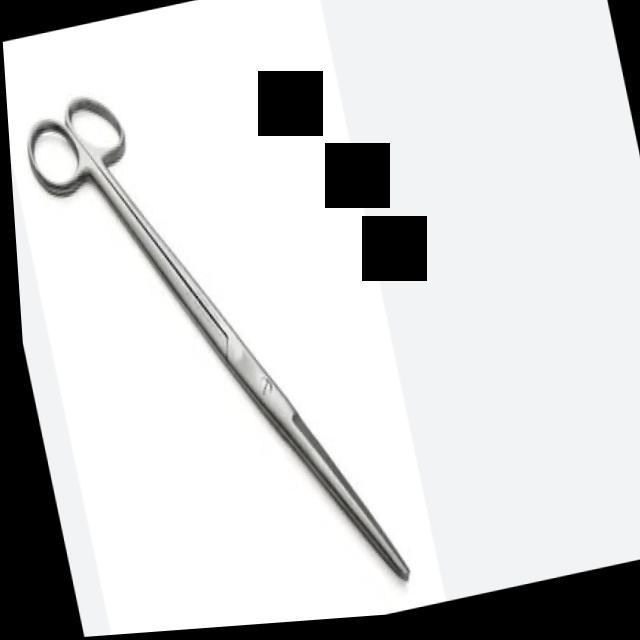Straight Mayo: (1, 4, 416, 640)
